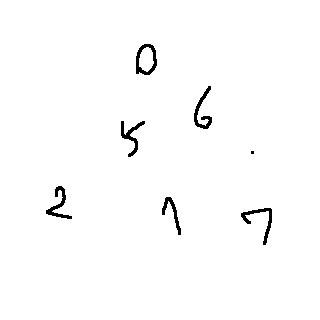.: (248, 146, 258, 162)
0: (131, 38, 162, 80)
1: (146, 191, 196, 243)
2: (44, 178, 82, 240)
5: (116, 112, 155, 162)
6: (190, 78, 223, 141)
7: (232, 201, 285, 252)
